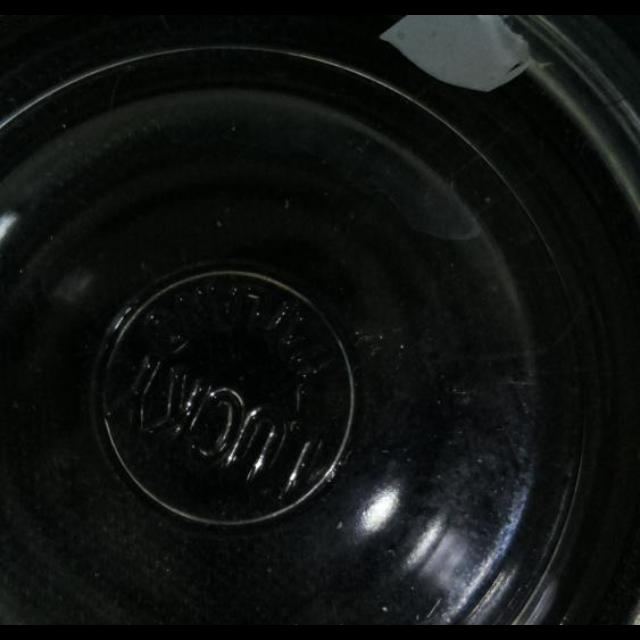Fragment: (382, 15, 552, 95)
